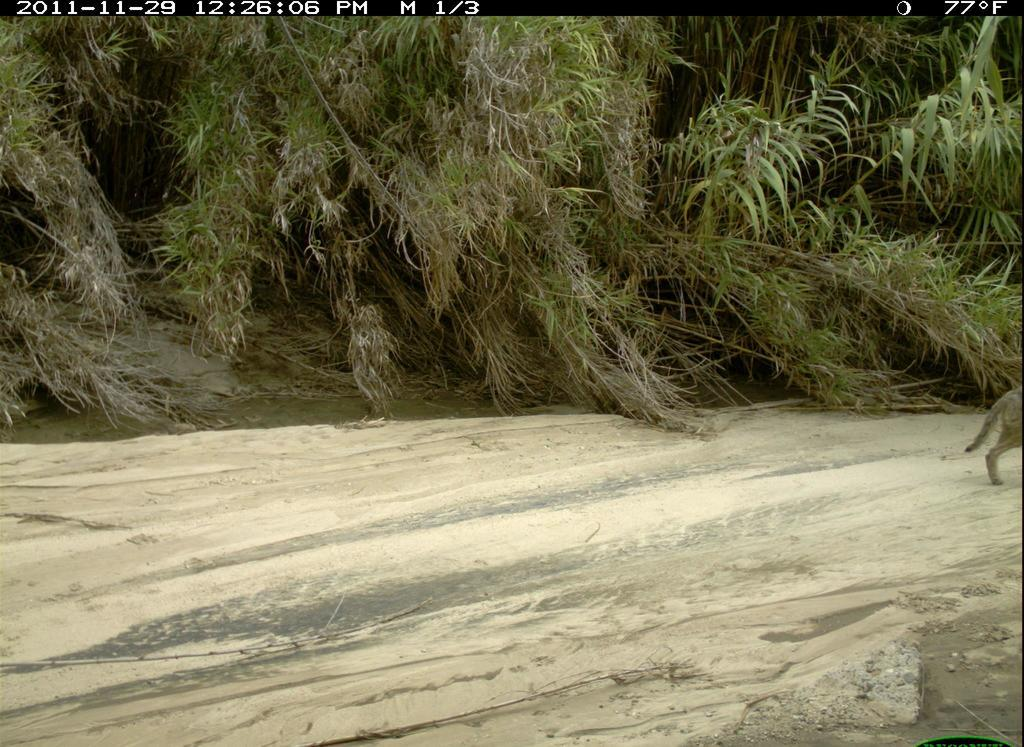coyote: (966, 379, 1023, 487)
